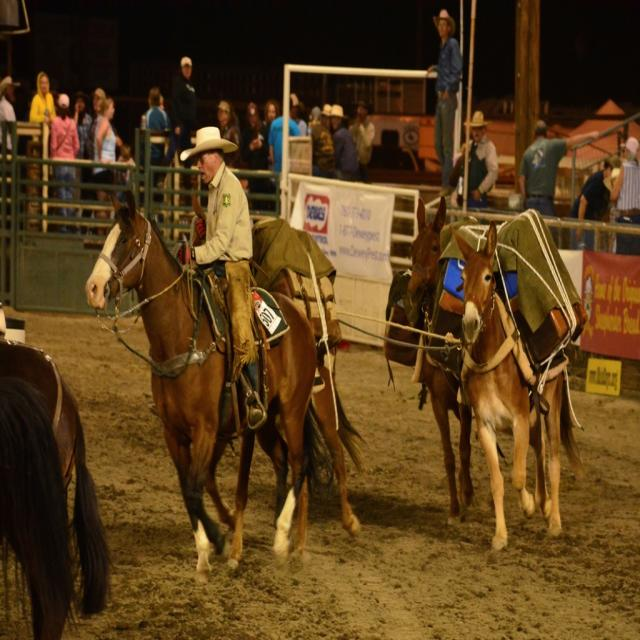Person: (0, 54, 375, 237), (170, 124, 266, 433), (518, 119, 600, 243), (425, 6, 463, 200), (568, 154, 626, 251), (610, 139, 640, 262), (463, 109, 499, 206)
